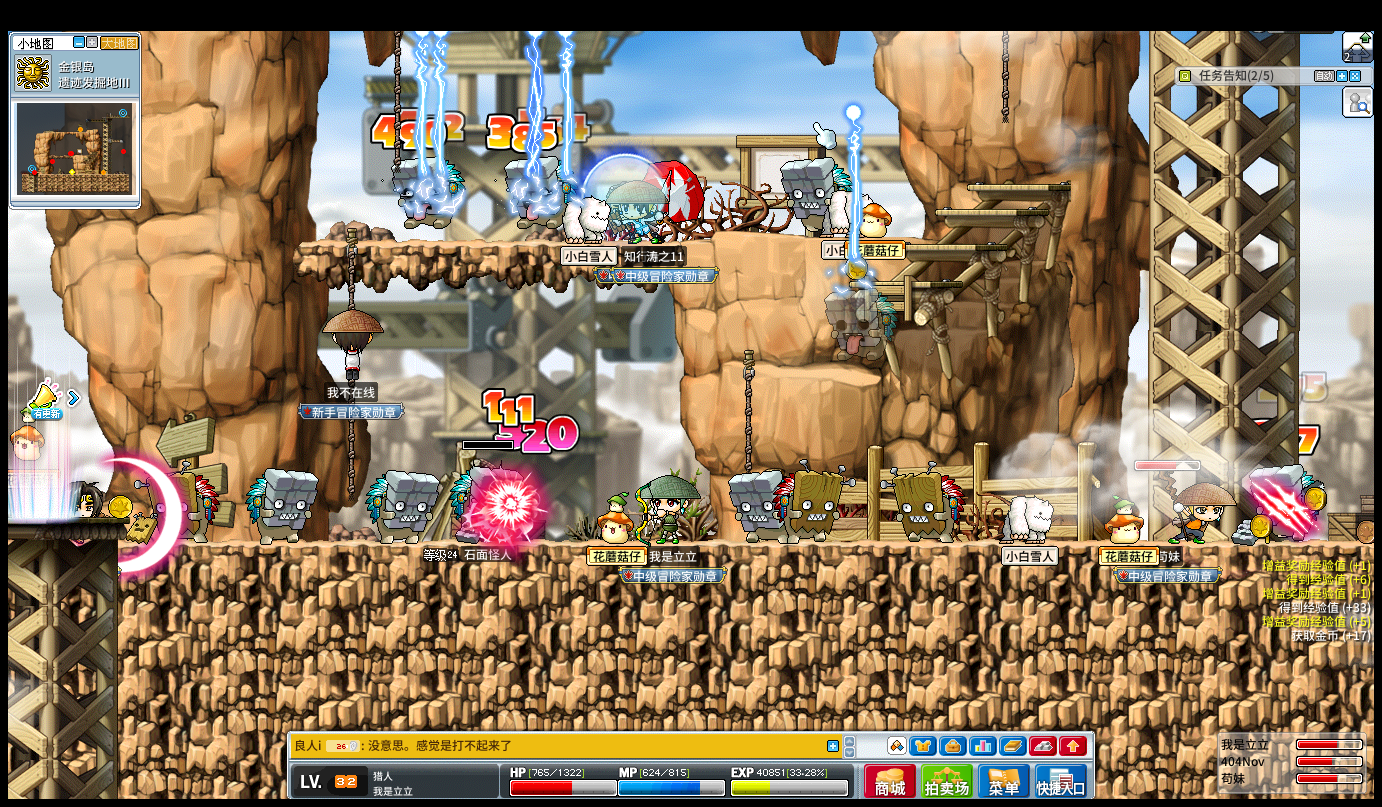floor: (293, 237, 687, 249), (774, 364, 883, 386), (10, 515, 129, 524), (931, 207, 1049, 215), (841, 279, 960, 286), (965, 184, 1072, 191), (896, 244, 1008, 250)
monster: (880, 460, 968, 543), (447, 464, 536, 543), (775, 463, 850, 543), (504, 156, 575, 239), (392, 157, 465, 237), (824, 288, 896, 368), (364, 469, 437, 545), (246, 468, 318, 544), (782, 156, 841, 232), (729, 471, 780, 543)
rope: (741, 350, 754, 475), (343, 226, 355, 307), (1000, 32, 1010, 122), (393, 29, 400, 151), (345, 420, 354, 496)
